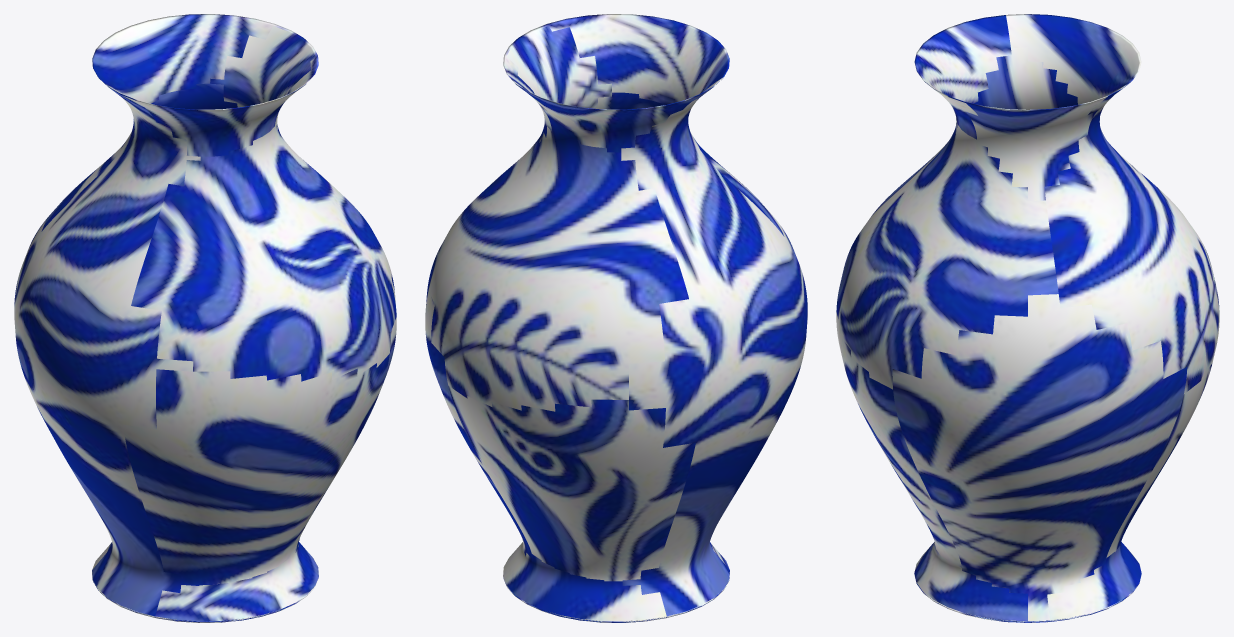
Rendered from vase.fbx.
The picture shows the model from 3 angles, left to right: view 1: azimuth 30°, elevation 25°; view 2: azimuth 150°, elevation 25°; view 3: azimuth 270°, elevation 25°; orthographic projection.
Visible parts, largest first — view 1: NurbsPath.002; view 2: NurbsPath.002; view 3: NurbsPath.002.
Part boxes in pixels (x1,y1,x2,y2): NurbsPath.002: (14, 14, 396, 622); NurbsPath.002: (425, 14, 807, 622); NurbsPath.002: (836, 14, 1219, 622).
Size of the model in its own units: 254 by 375 by 254.
